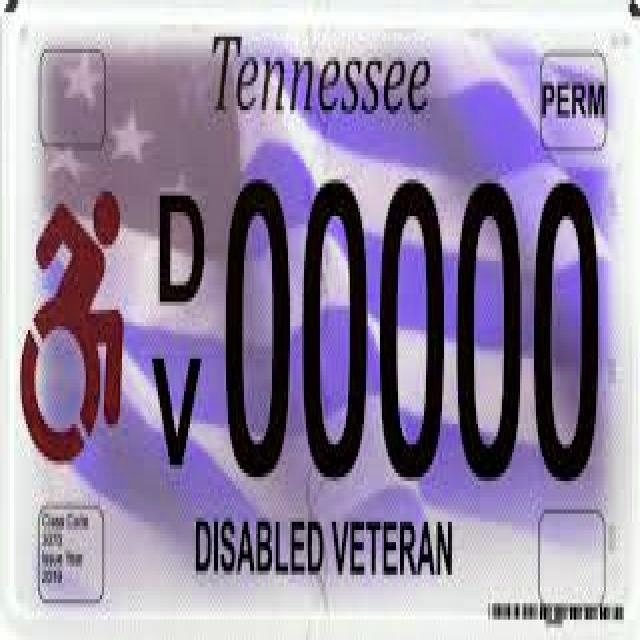ISA: (23, 190, 123, 465)
